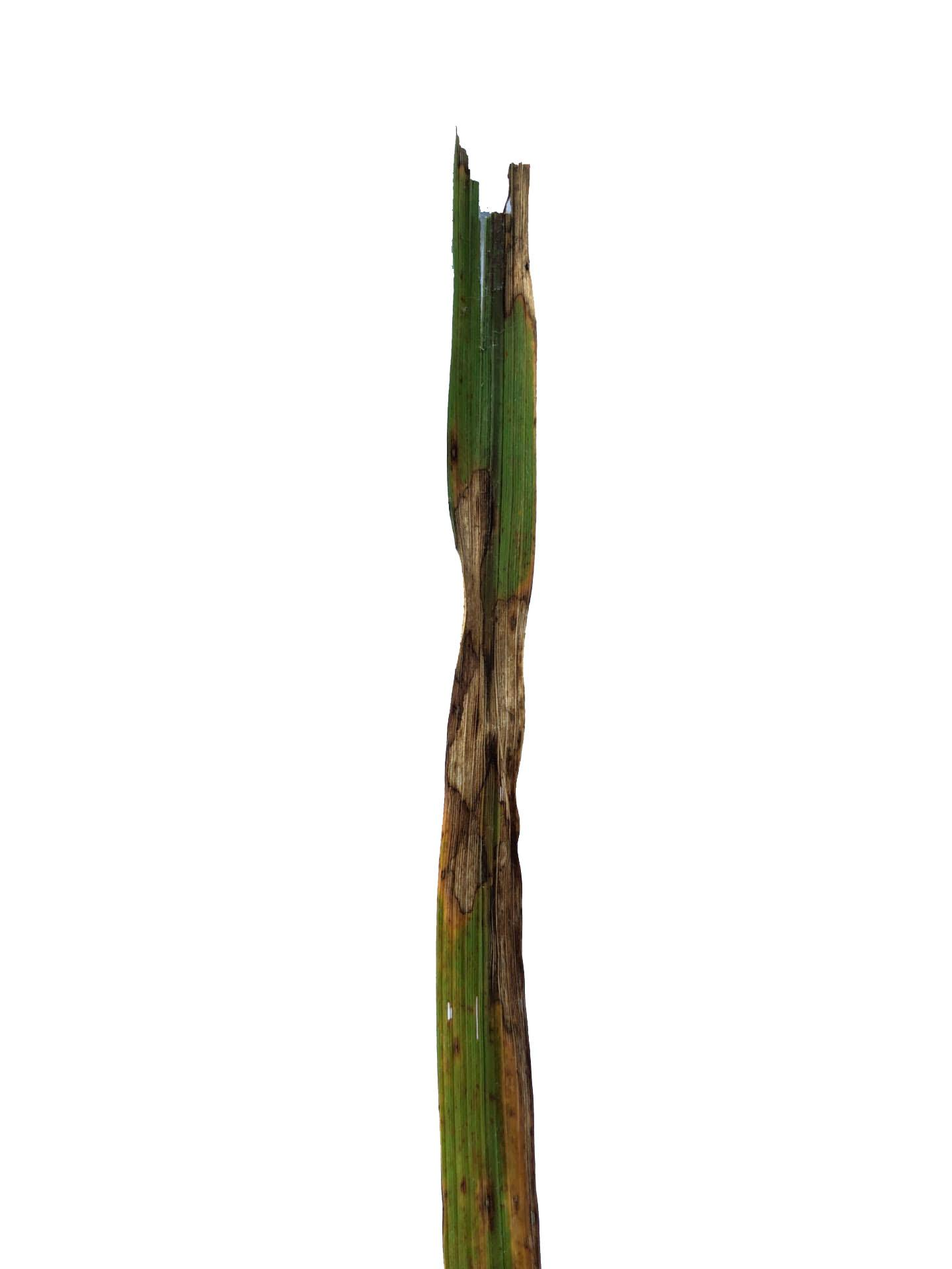Blight: (453, 443, 526, 952), (489, 155, 542, 354), (496, 978, 532, 1243)
